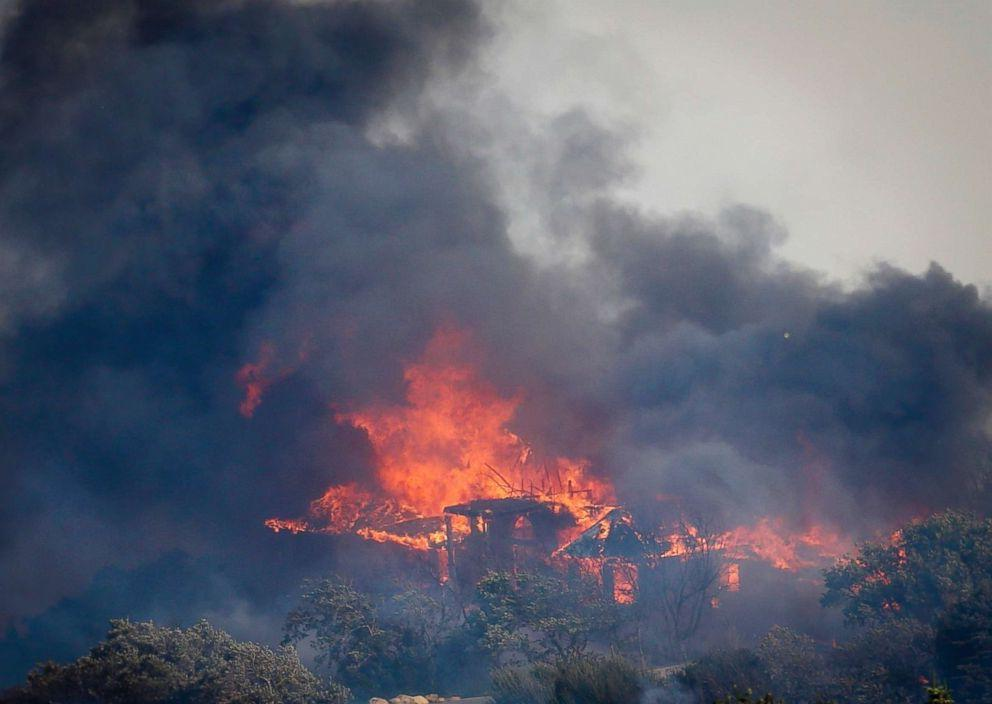Fire: (217, 308, 630, 564), (661, 500, 890, 576)
